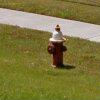Hydrant: (41, 14, 72, 78)
